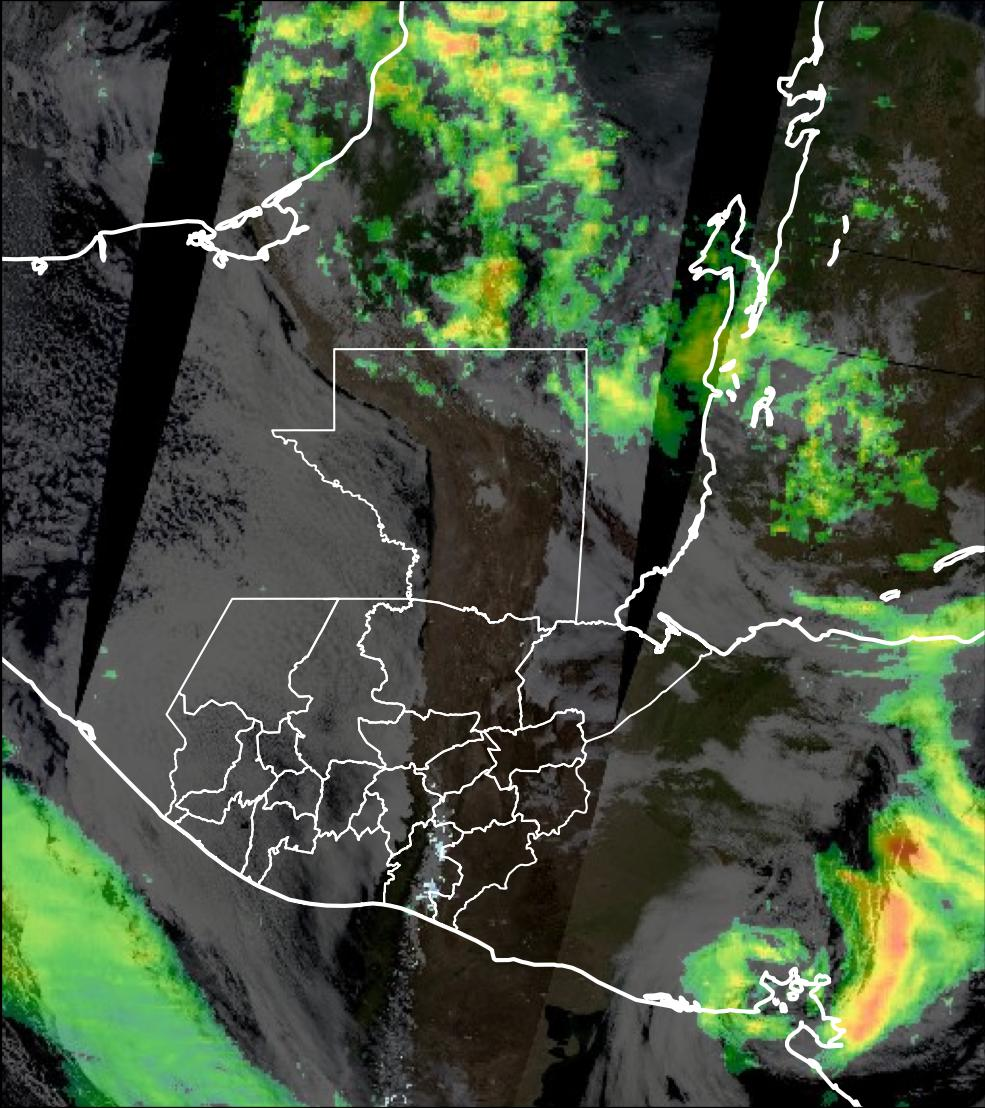precipitacion: (839, 866, 935, 1066)
